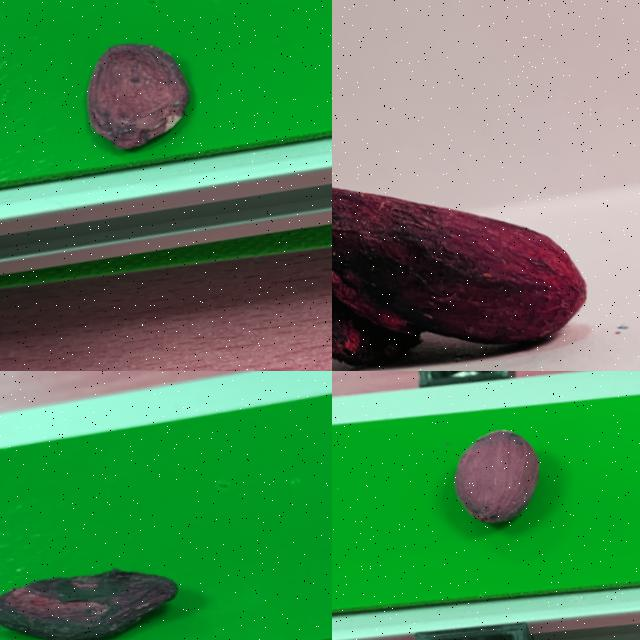Agglomerated_cocoabeans: (332, 51, 632, 370)
Fine_cocoabeans: (388, 379, 626, 569)
Flat_cocoabeans: (0, 0, 282, 190), (0, 492, 284, 639)
